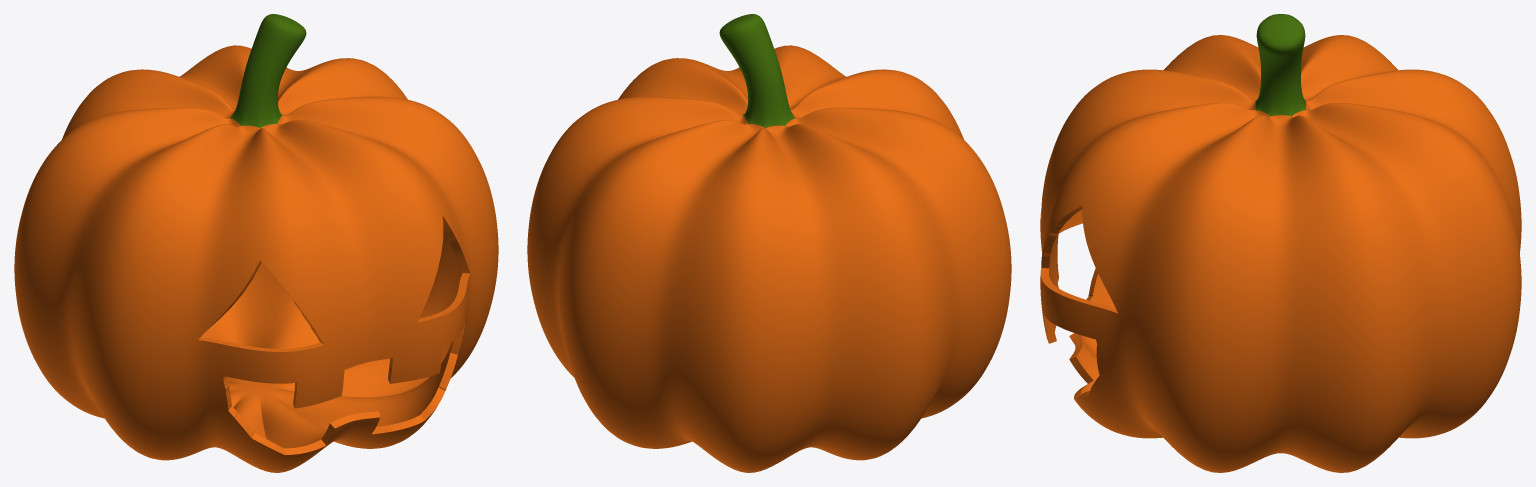
Rendered from pumpkin.fbx.
The picture shows the model from 3 angles, left to right: view 1: azimuth 30°, elevation 25°; view 2: azimuth 150°, elevation 25°; view 3: azimuth 270°, elevation 25°; orthographic projection. The views are drawn at different scales.
Parts seen in each view (by area): view 1: Sphere; view 2: Sphere; view 3: Sphere.
Boxes of the visible parts, x1,y1,x2,y2 form: Sphere: [14, 14, 498, 472]; Sphere: [527, 14, 1011, 472]; Sphere: [1040, 14, 1521, 472].
Bounding box in the file's own units: 175 × 164 × 175.
